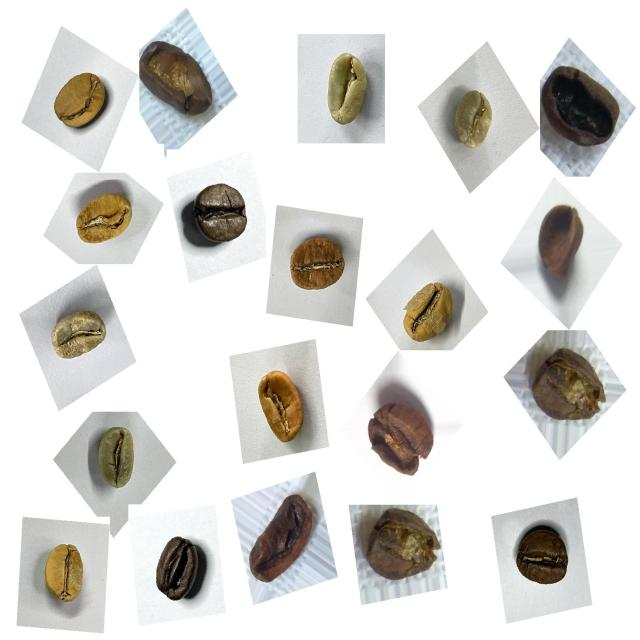bad: (533, 51, 627, 159), (239, 485, 324, 596), (520, 334, 614, 429), (360, 380, 443, 484), (138, 34, 222, 128), (353, 507, 441, 593), (530, 192, 594, 287)
dark: (506, 512, 582, 602), (181, 169, 257, 257), (148, 521, 216, 613)
green: (308, 40, 381, 140), (40, 296, 115, 376), (86, 416, 150, 500), (443, 77, 503, 161)
light: (243, 357, 316, 454), (388, 264, 466, 352), (279, 221, 357, 306), (68, 177, 145, 261), (44, 55, 116, 143), (32, 530, 97, 620)
